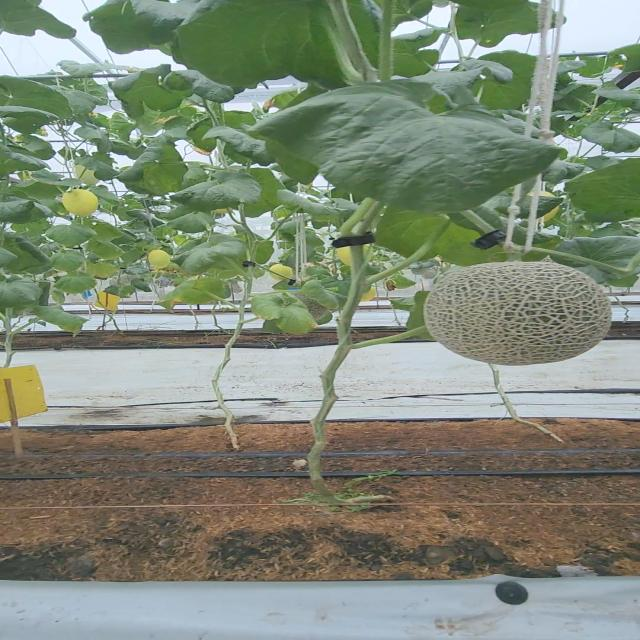Melon: (424, 261, 619, 369)
